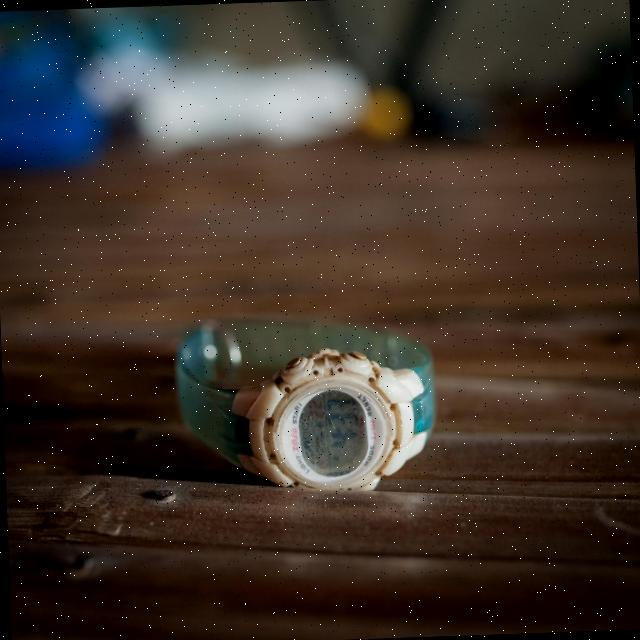Wrist watch: (175, 308, 441, 498)
